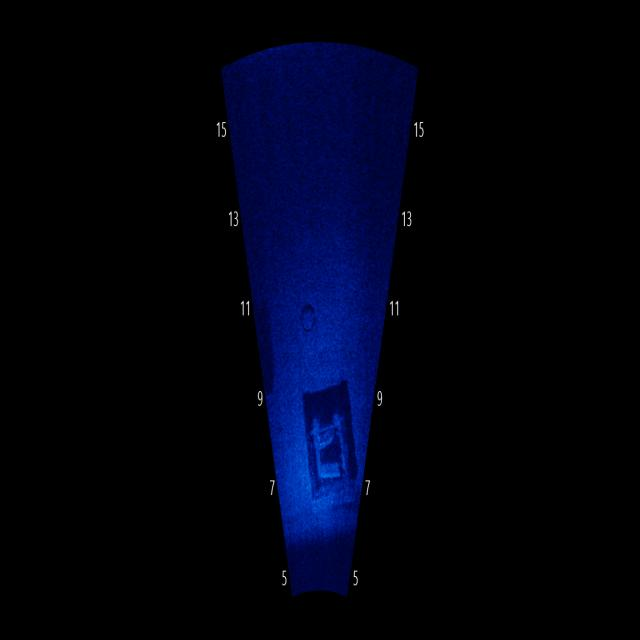square: (302, 381, 360, 509), (252, 282, 282, 393)
